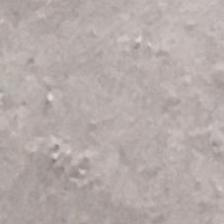Non_Crack: (25, 20, 192, 183)
